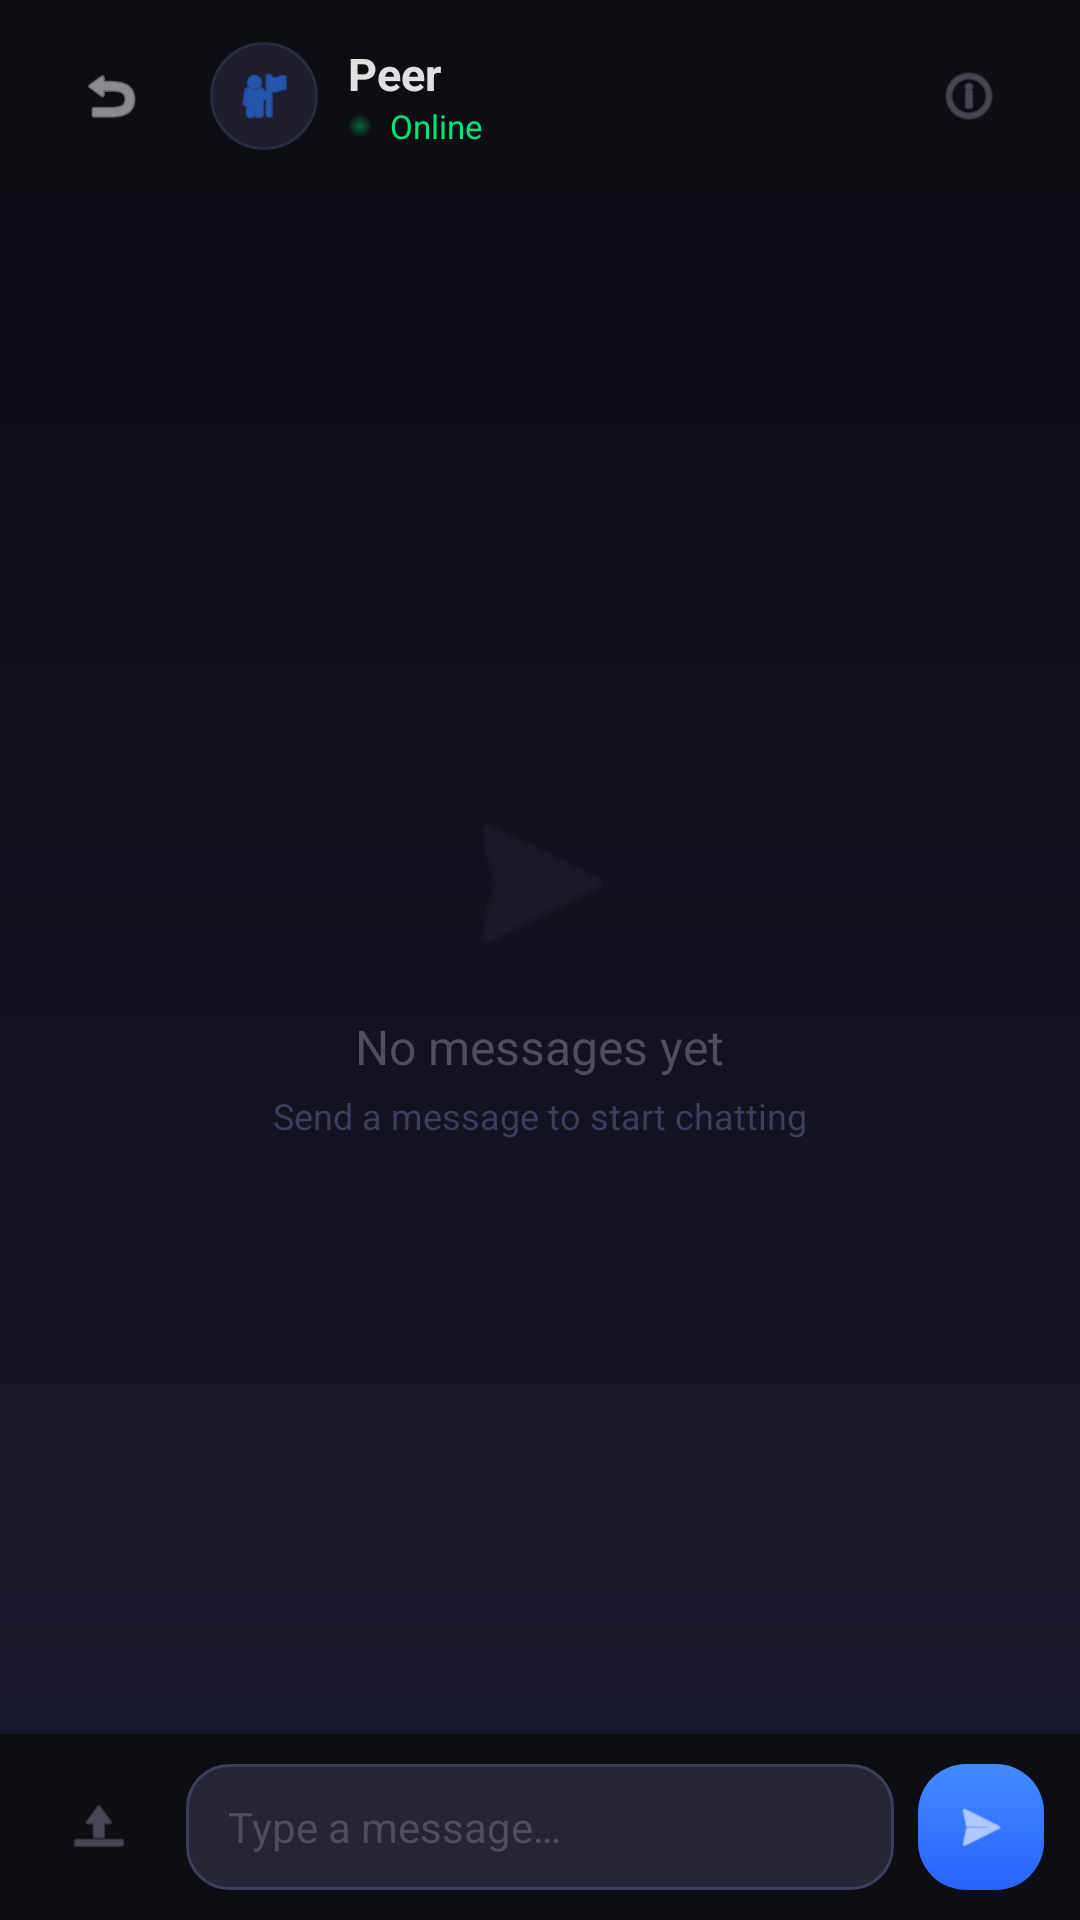

Point at icon controls on the screen. Image size 1080 x 1920, points as (x=x, y=y).
info details: (x=969, y=96)
myplaces: (x=264, y=96)
revert: (x=112, y=96)
send: (x=981, y=1827)
upload: (x=99, y=1826)
